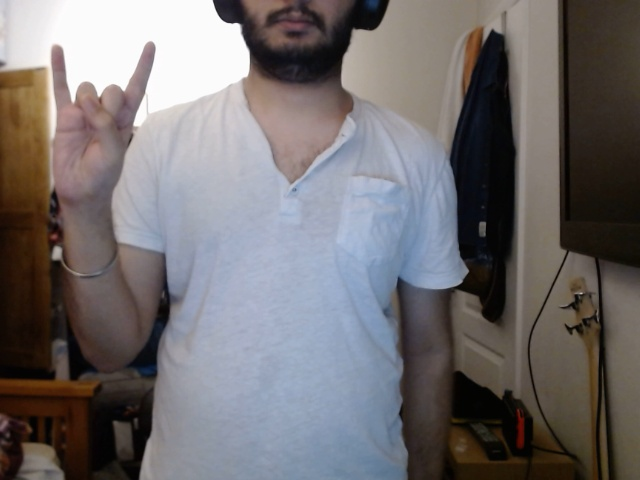Rock on: (36, 32, 173, 218)
